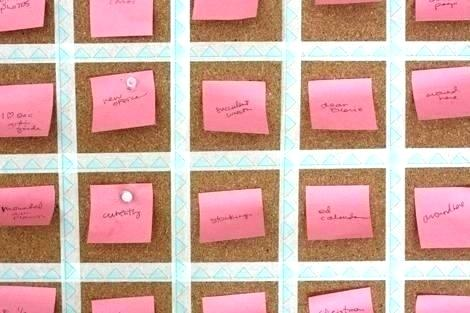stickynote: (87, 69, 157, 132), (86, 181, 153, 242), (201, 79, 269, 135), (305, 184, 374, 239), (198, 188, 266, 243), (307, 78, 377, 131), (411, 66, 470, 121), (1, 83, 54, 139), (1, 185, 55, 228)
